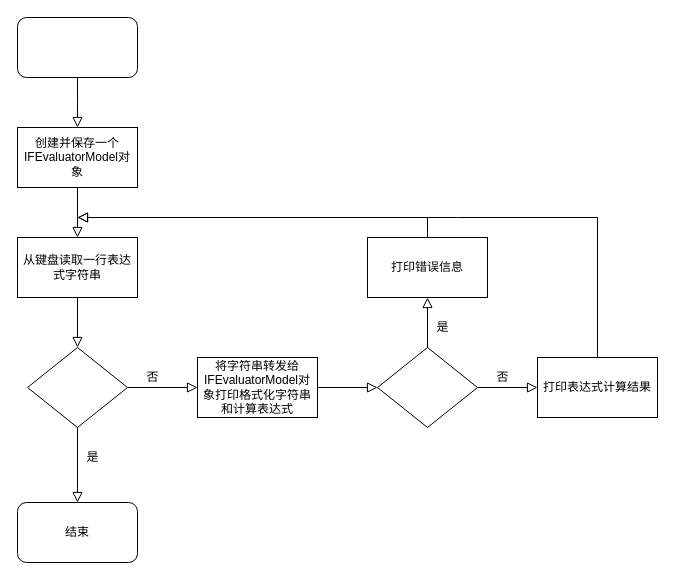
This 675x580 diagram has some shape labels left out. The centre of each missing label's shape, as x and y in pixels:
字符串是否为空？: (x=77, y=387)
开始: (x=77, y=47)
计算表达式过程中有错误么？: (x=427, y=387)
